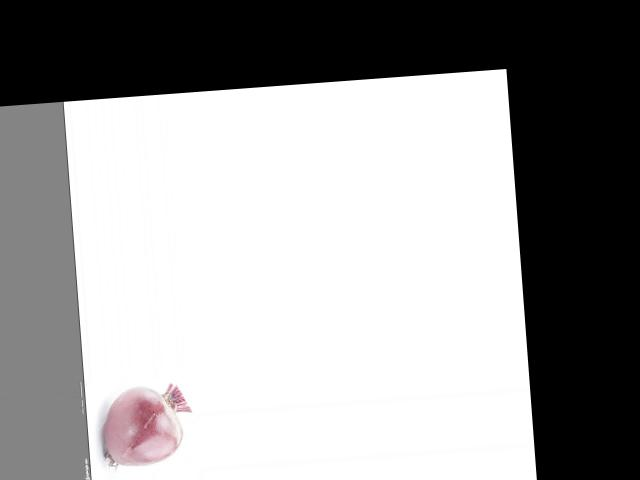beet: (100, 382, 194, 468)
